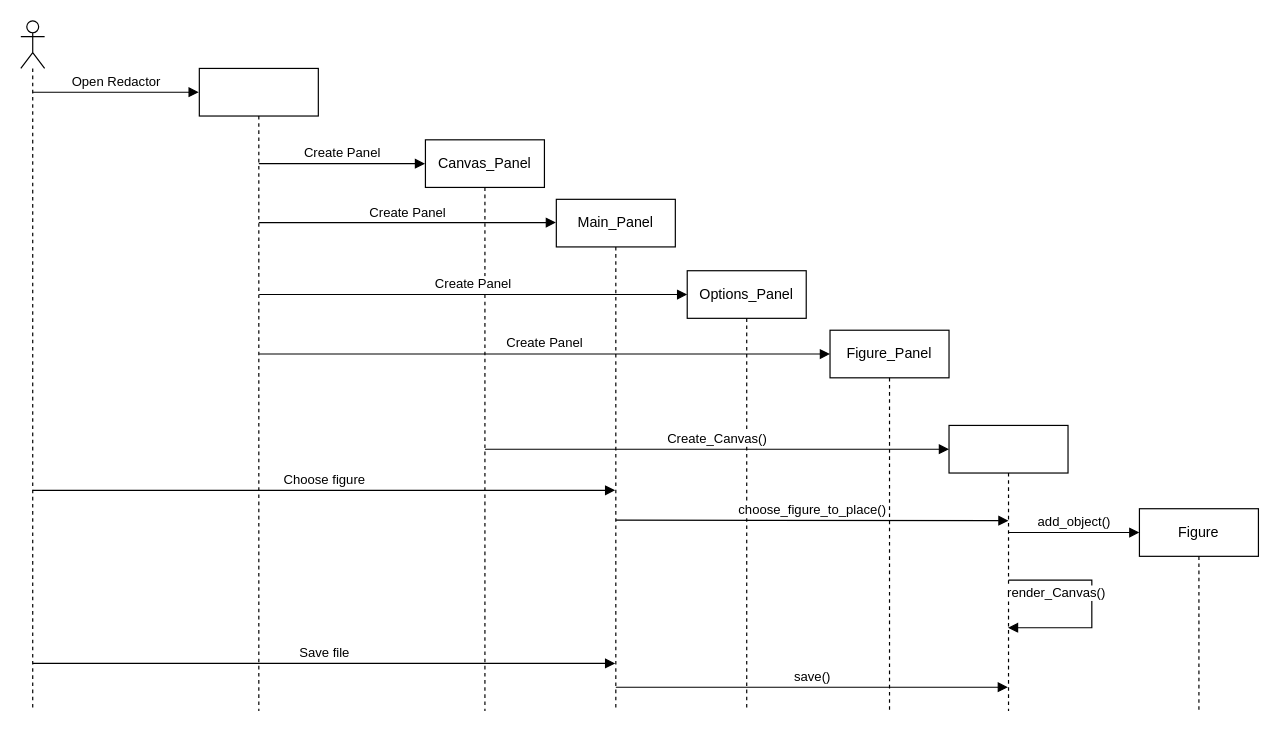
The diagram is 1279 pixels wide and 732 high, and some of its shapes have lost their labels. Here are the shapes that lost their labels. From the top down, the box of each, then its label:
(198, 67, 318, 711): Redactor
(948, 424, 1068, 711): Canvas
